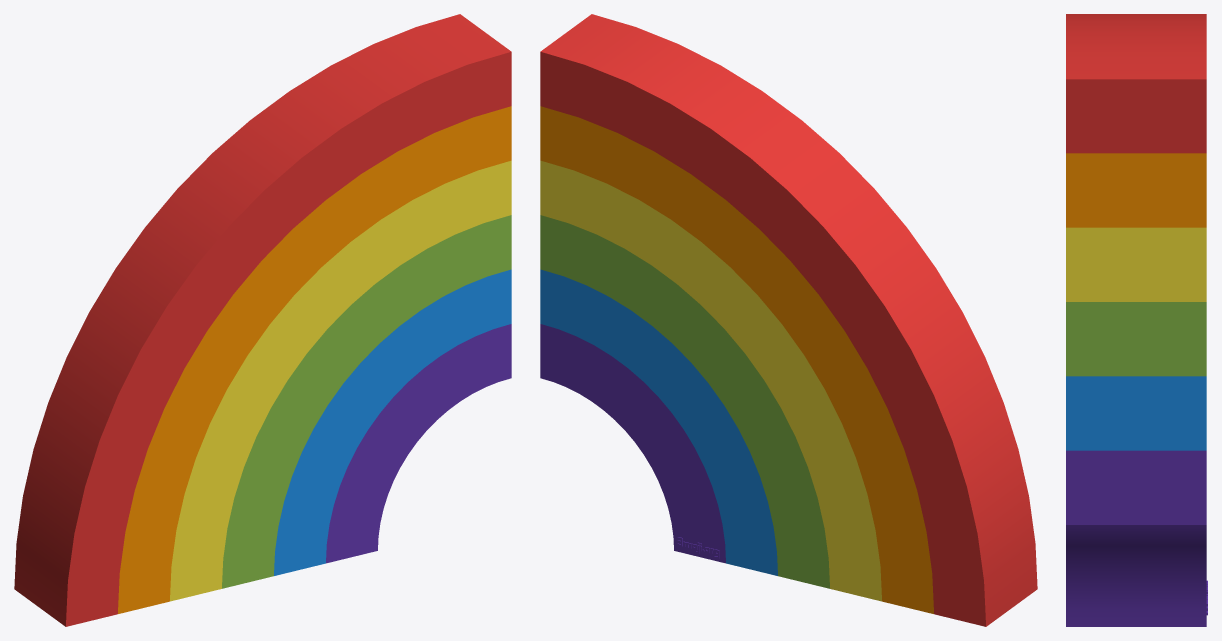
Rendered from rainbow.gltf.
3 renders of one model, left to right at view 1: azimuth 30°, elevation 25°; view 2: azimuth 150°, elevation 25°; view 3: azimuth 270°, elevation 25°, orthographic. The views are drawn at different scales.
Visible parts, largest first — view 1: Circle.2125; view 2: Circle.2125; view 3: Circle.2125.
Part boxes in pixels (left/top/right/bottom): Circle.2125: left=14, top=14, right=511, bottom=626; Circle.2125: left=540, top=14, right=1037, bottom=626; Circle.2125: left=1066, top=14, right=1207, bottom=626.
Size of the model in its own units: 2.24 by 2.24 by 0.4519.
1 material, 1 textured.
